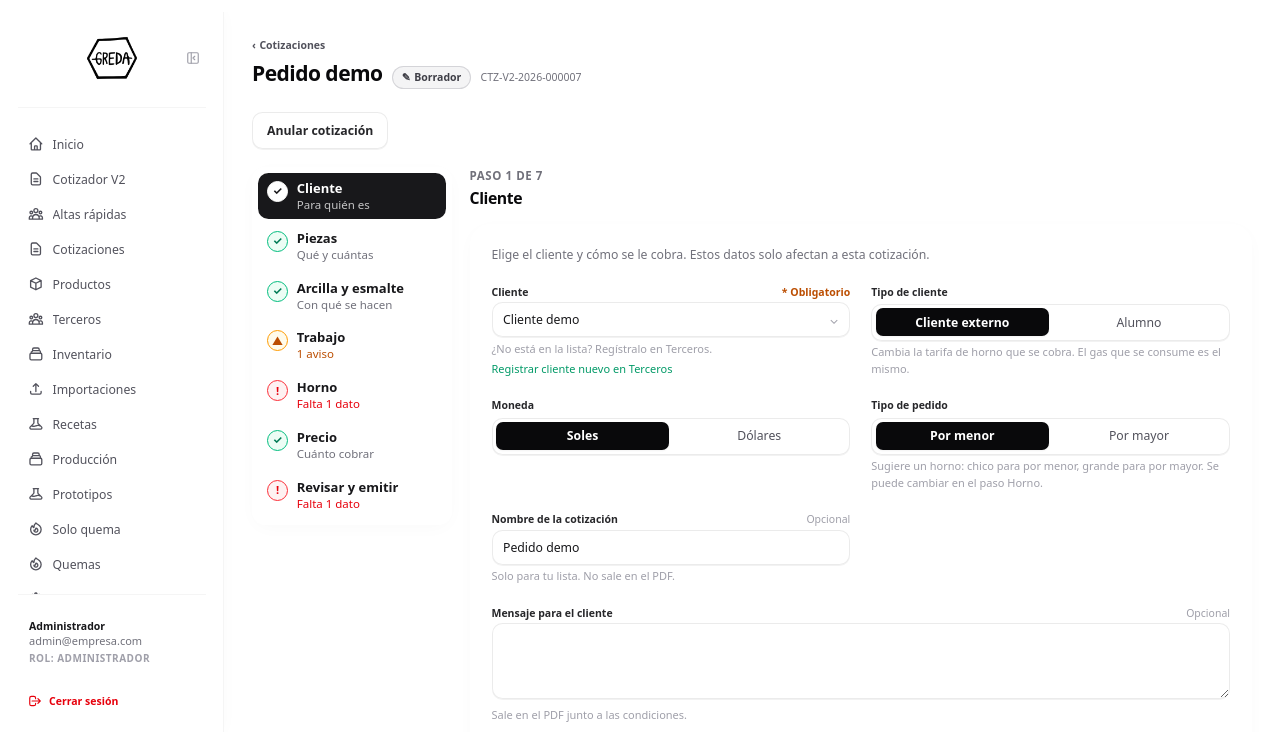
Test case: shell del Cotizador V2 rediseñado: resumen y pendientes › tras un guardado los pendientes se vuelven a pedir y cambian
Click the radio button labelled "Alumno": [1139, 322] box [1052,308,1226,336]
(page scrolled)
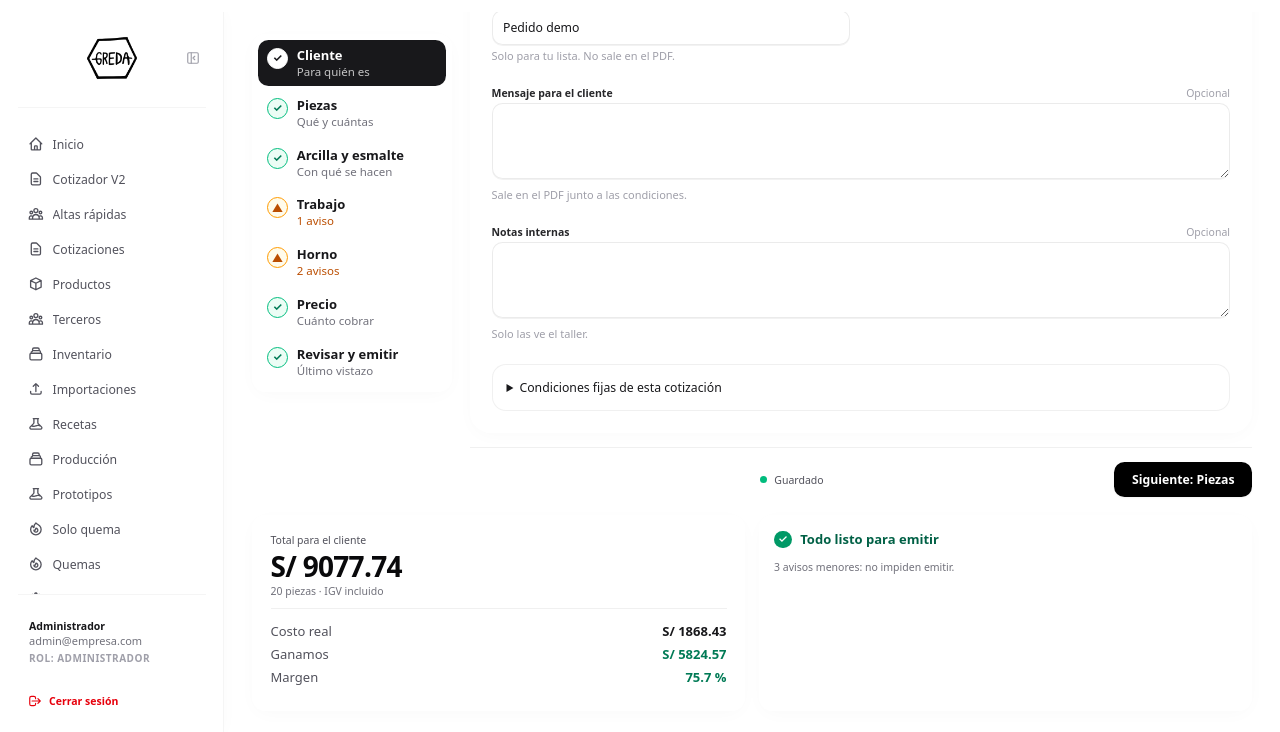
Expected: the text "Todo listo para emitir" is shown, [800,530,939,548]
